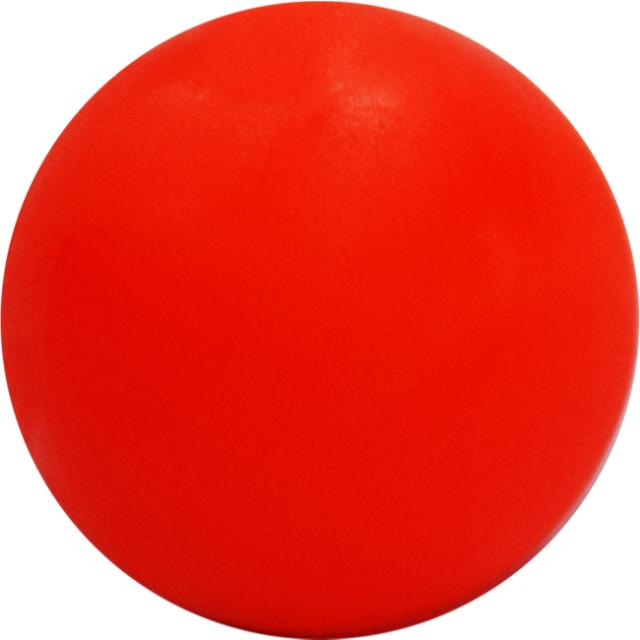hatball: (0, 2, 639, 639)
